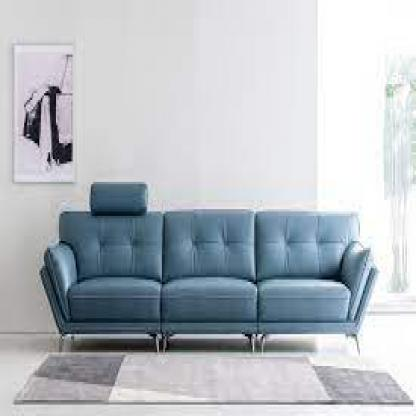sofa: (44, 182, 370, 350)
